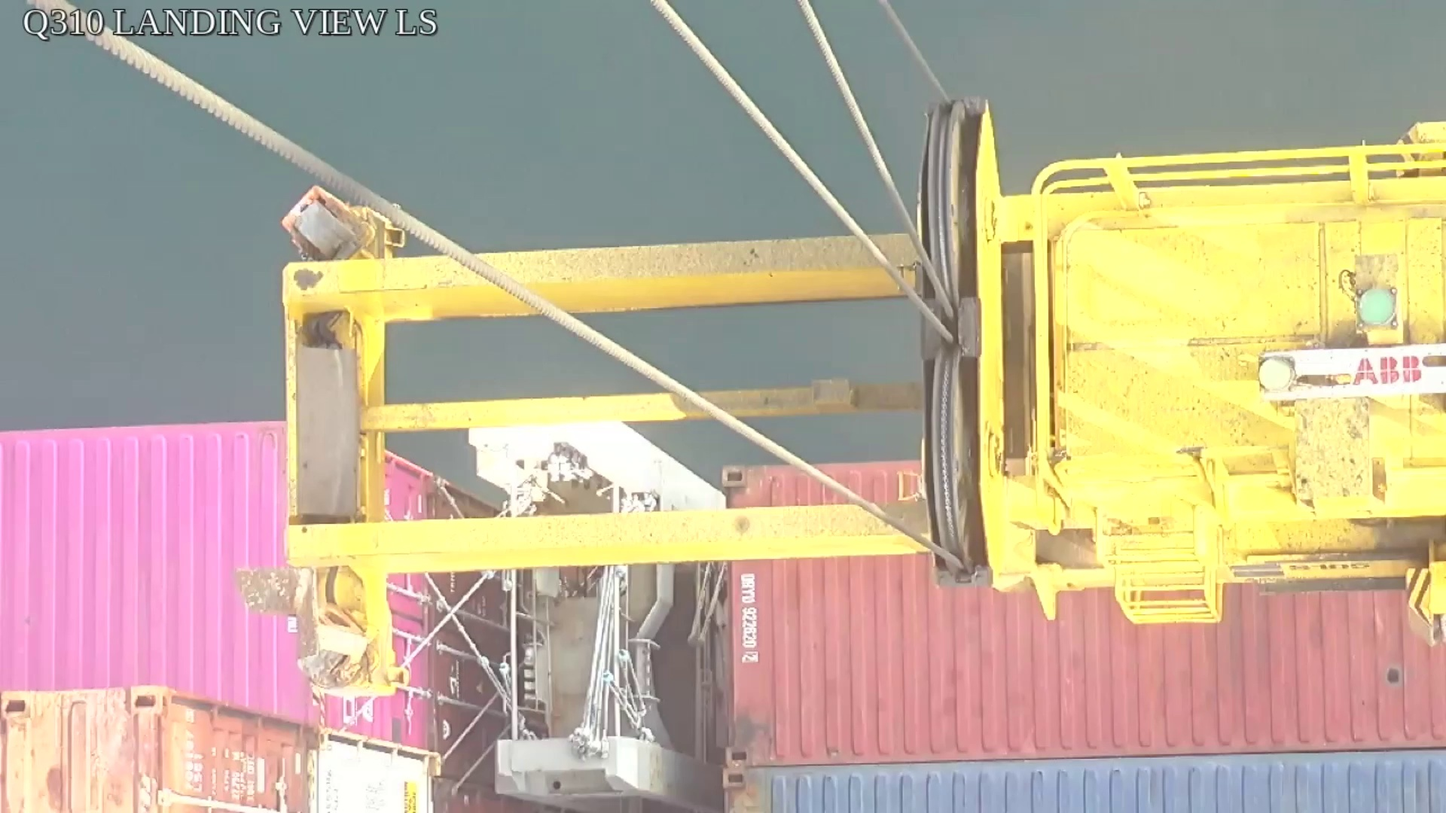aa: (914, 99, 1006, 588)
